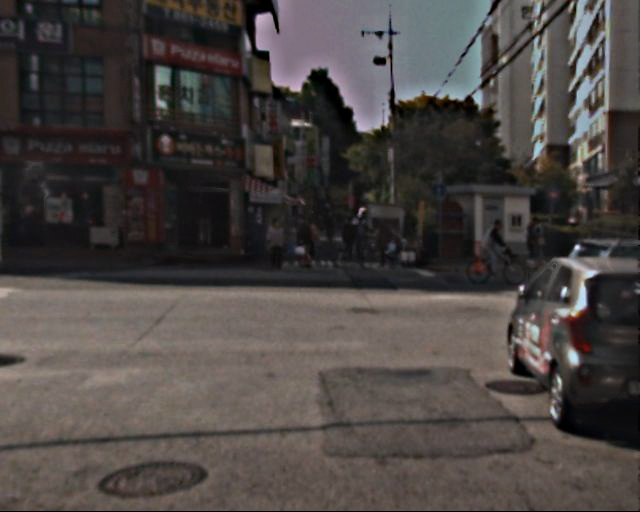person: (482, 215, 507, 276), (295, 214, 318, 270), (377, 219, 399, 272), (268, 219, 289, 270), (353, 213, 374, 263), (525, 216, 545, 265), (342, 214, 361, 260), (390, 230, 407, 271), (326, 209, 339, 240)
